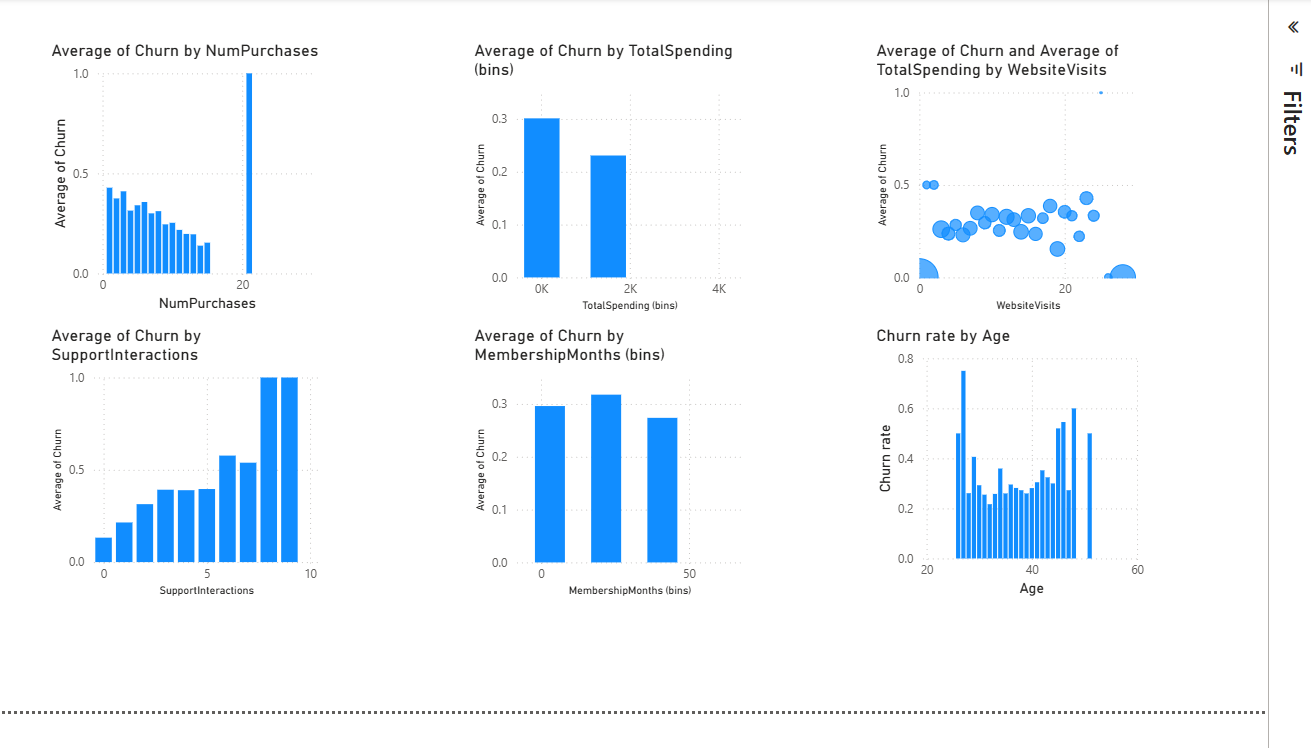

What the dashboard file says about the page in this screenshot:
{"tool":"powerbi","page":{"name":"Page 1","canvas":[1280,720],"ordinal":0},"visuals":[{"type":"clusteredColumnChart","fields":{"Category":["CustomerActivity.NumPurchases"],"Y":["Avg(CustomerActivity.Churn)"]},"box":[46.7,41.7,280,278.3],"z":0},{"type":"lineStackedColumnComboChart","fields":{"Category":["CustomerActivity.TotalSpending (bins)"],"Y":["Avg(CustomerActivity.Churn)"]},"box":[473.3,41.7,280,278.3],"z":1000},{"type":"scatterChart","fields":{"Size":["Avg(CustomerActivity.TotalSpending)"],"Y":["Avg(CustomerActivity.Churn)"],"X":["CustomerActivity.WebsiteVisits"]},"box":[880,41.7,280,278.3],"z":2000},{"type":"columnChart","fields":{"Category":["CustomerActivity.SupportInteractions"],"Y":["Avg(CustomerActivity.Churn)"]},"box":[47,330,280,278],"z":3000},{"type":"columnChart","fields":{"Category":["CustomerActivity.MembershipMonths (bins)"],"Y":["Avg(CustomerActivity.Churn)"]},"box":[473.3,330,280,278.3],"z":4000},{"type":"lineStackedColumnComboChart","fields":{"Category":["Customer.Age"],"Y":["CustomerActivity.Churn rate"]},"box":[880,330,280,278.3],"z":5000}]}

Visuals, with their boxes on the page's 1280x720 design canvas (x1, y1, x2, y2). These are canvas units, not pixel positions in the 1311x748 screenshot, which may show the page scaled, cropped or inside an application window:
clusteredColumnChart - CustomerActivity.NumPurchases x Avg(CustomerActivity.Churn): {"left": 47, "top": 42, "right": 327, "bottom": 320}
lineStackedColumnComboChart - CustomerActivity.TotalSpending (bins) x Avg(CustomerActivity.Churn): {"left": 473, "top": 42, "right": 753, "bottom": 320}
scatterChart - Avg(CustomerActivity.TotalSpending) x Avg(CustomerActivity.Churn): {"left": 880, "top": 42, "right": 1160, "bottom": 320}
columnChart - CustomerActivity.SupportInteractions x Avg(CustomerActivity.Churn): {"left": 47, "top": 330, "right": 327, "bottom": 608}
columnChart - CustomerActivity.MembershipMonths (bins) x Avg(CustomerActivity.Churn): {"left": 473, "top": 330, "right": 753, "bottom": 608}
lineStackedColumnComboChart - Customer.Age x CustomerActivity.Churn rate: {"left": 880, "top": 330, "right": 1160, "bottom": 608}
